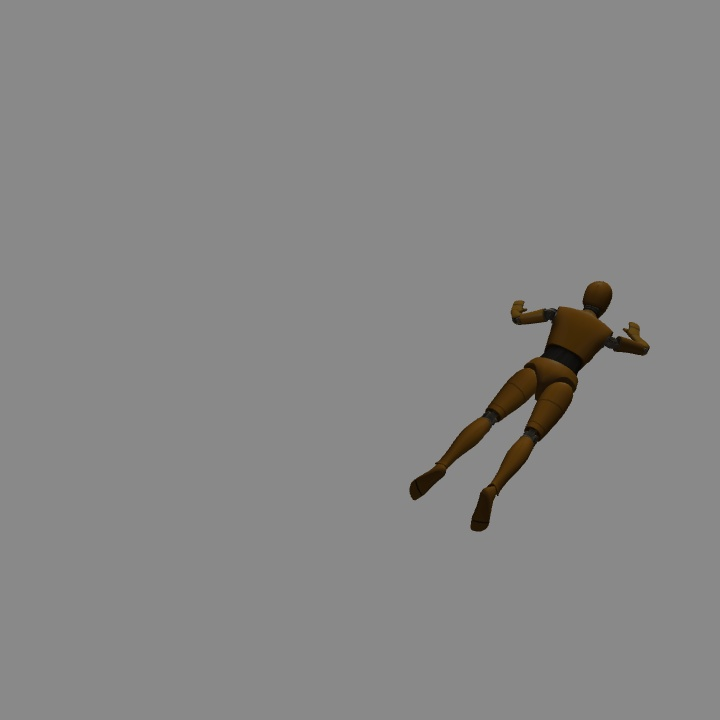victim: (414, 281, 645, 531)
